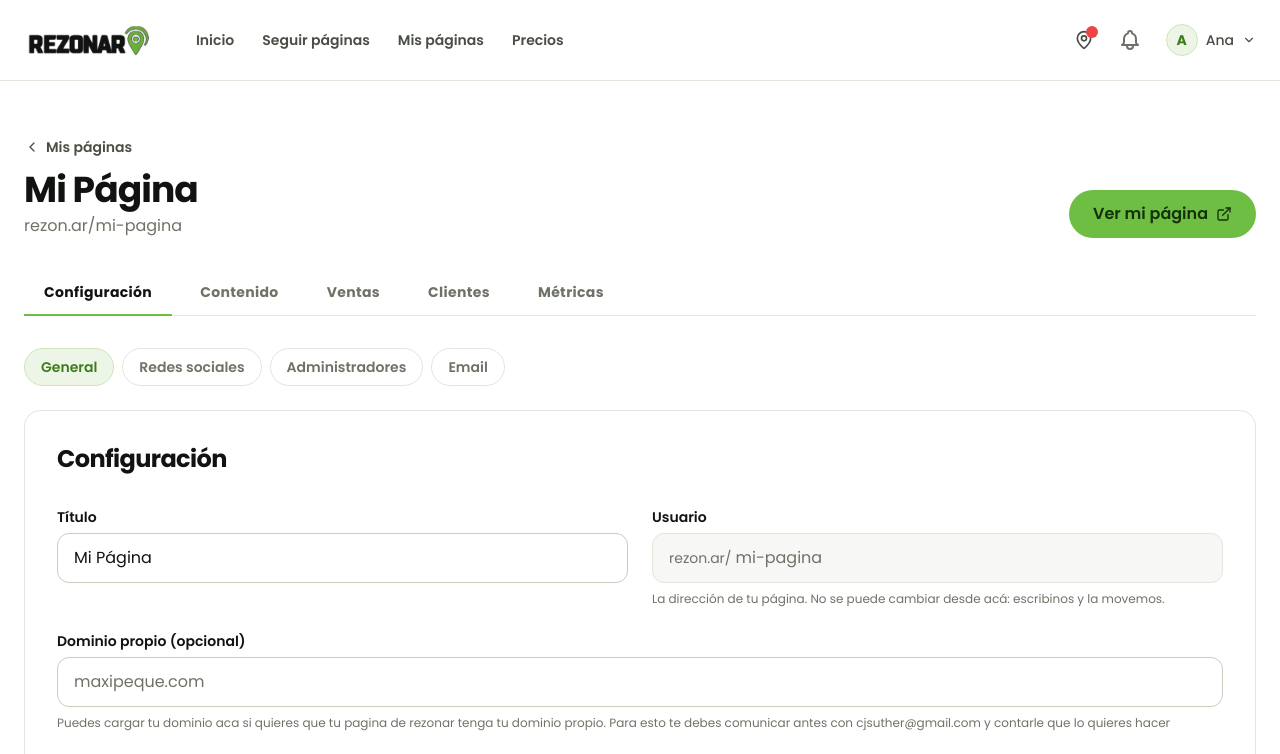
Test: PageEditor › carga › redes sociales y administradores están dentro de configuración
expect the heading "Mi Página" is shown: met, box [24,170,198,210]
expect the button "General" is shown: met, box [24,348,114,386]
Step 1. Click the button "Redes sociales" → (192, 367), box [122,348,262,386]
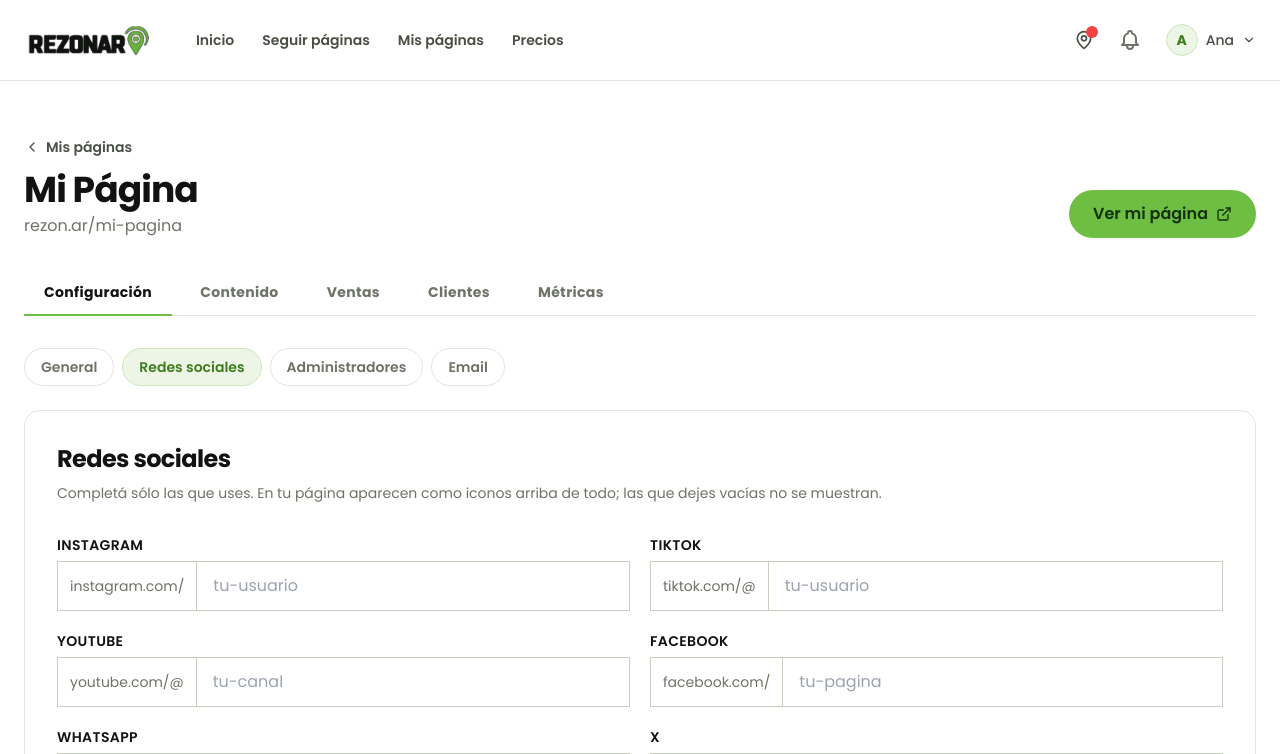
expect the heading "Redes sociales" is shown: met, box [57,442,230,475]
Step 2. Click the button "Administradores" → (346, 367), box [270,348,423,386]
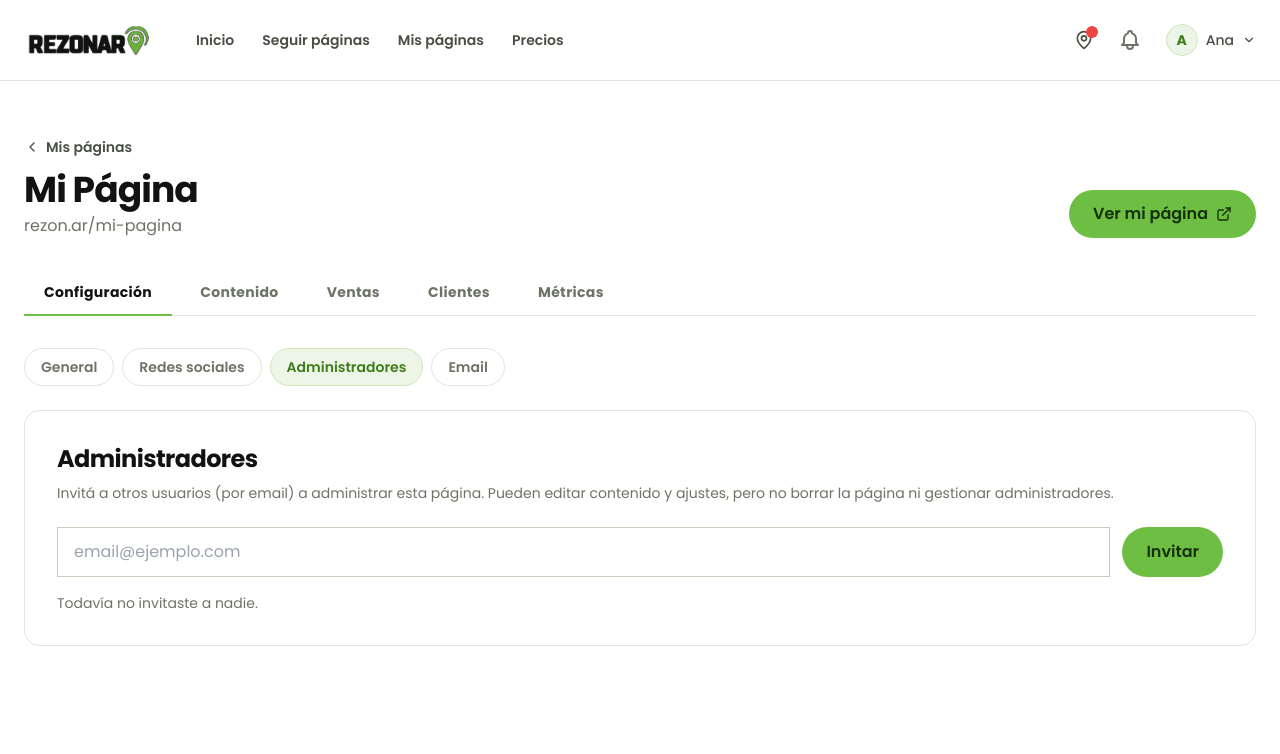
expect the heading "Administradores" is shown: met, box [57,442,258,475]
